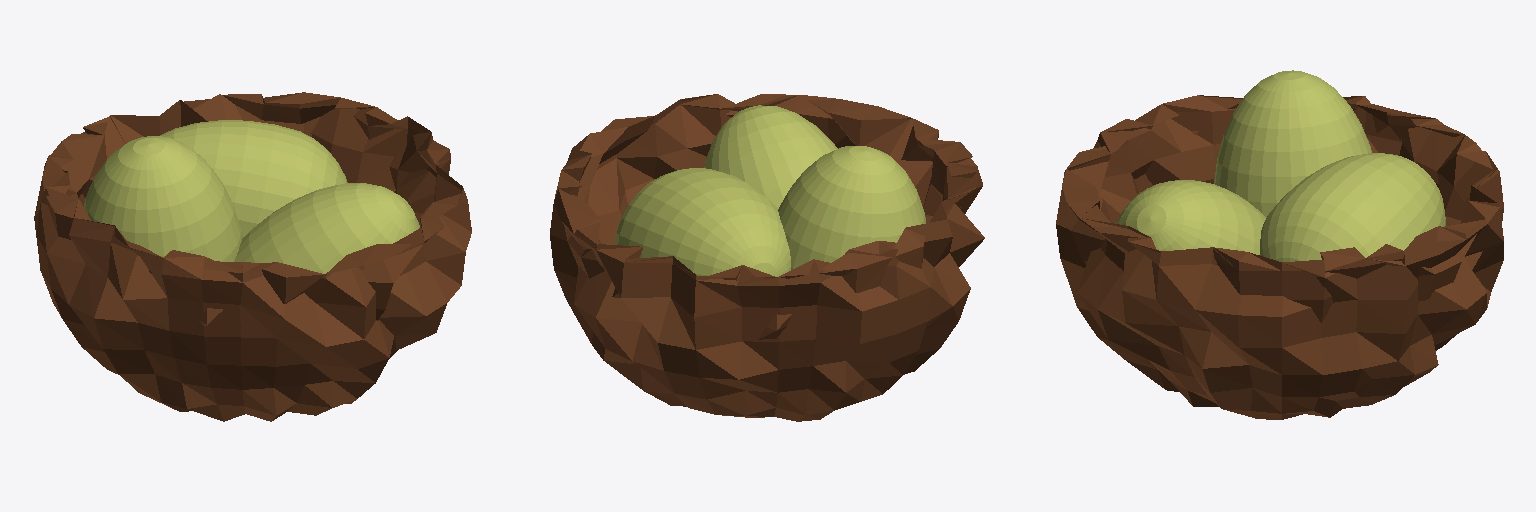
3 renders of one model, left to right at view 1: azimuth 30°, elevation 25°; view 2: azimuth 150°, elevation 25°; view 3: azimuth 270°, elevation 25°, orthographic.
Visible parts, largest first — view 1: 球, 球.001_球.004, 球.003_球.005, 球.002_球.003; view 2: 球, 球.003_球.005, 球.001_球.004, 球.002_球.003; view 3: 球, 球.003_球.005, 球.001_球.004, 球.002_球.003.
Boxes of the visible parts, x1,y1,x2,y2 form: 球: [34, 92, 471, 421]; 球.001_球.004: [84, 136, 242, 261]; 球.003_球.005: [160, 120, 347, 237]; 球.002_球.003: [234, 183, 419, 273]; 球: [550, 94, 984, 421]; 球.003_球.005: [615, 168, 790, 276]; 球.001_球.004: [778, 146, 925, 269]; 球.002_球.003: [704, 105, 837, 208]; 球: [1056, 95, 1503, 419]; 球.003_球.005: [1260, 153, 1445, 261]; 球.001_球.004: [1214, 70, 1371, 217]; 球.002_球.003: [1116, 180, 1265, 254].
Size of the model in its own units: 2.23 by 1.53 by 2.33.
Materials: 2 (2 with a texture image).